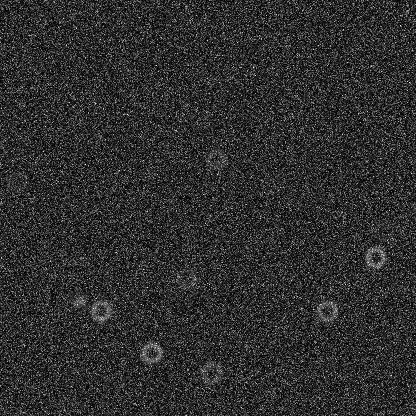Ring: (199, 360, 223, 384), (174, 266, 198, 290), (139, 340, 163, 364), (88, 298, 112, 322), (204, 146, 228, 170), (363, 245, 387, 269), (5, 169, 29, 193), (372, 218, 396, 242), (315, 298, 339, 322)
Spot: (71, 293, 87, 309)
